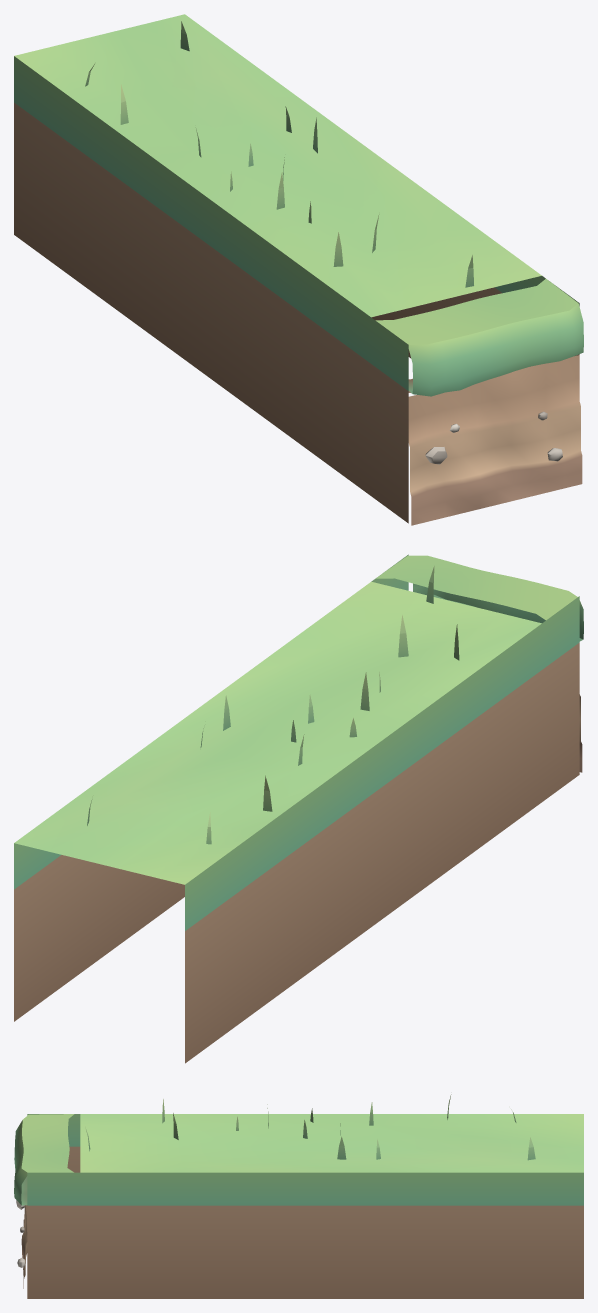
File: ground_grass_1.glb
3 renders of one model, top to bottom at view 1: azimuth 30°, elevation 25°; view 2: azimuth 150°, elevation 25°; view 3: azimuth 270°, elevation 25°, orthographic. The views are drawn at different scales.
Visible parts, largest first — view 1: ground_grass_1; view 2: ground_grass_1; view 3: ground_grass_1.
Part boxes in pixels (left/top/right/bottom): ground_grass_1: left=14, top=14, right=583, bottom=525; ground_grass_1: left=14, top=554, right=583, bottom=1063; ground_grass_1: left=14, top=1094, right=583, bottom=1298.
Bounding box in the file's own units: 1 × 1.22 × 4.1.
